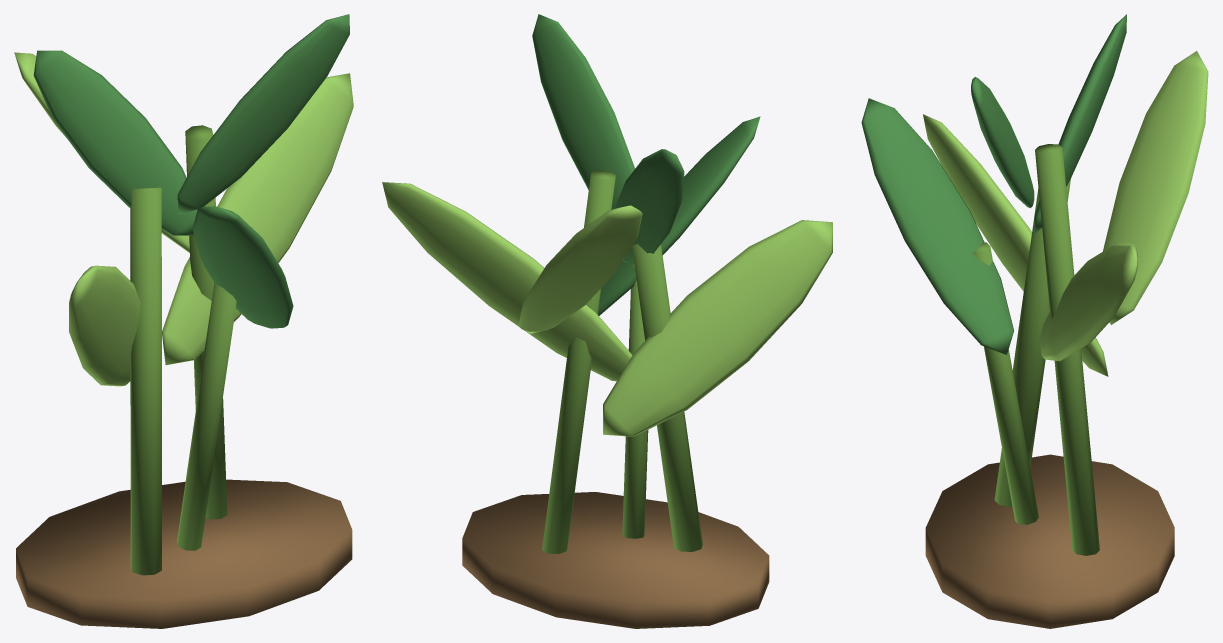
File: xy_nat_crop_sprout.glb
3 views of the same model, side by side, from view 1: azimuth 30°, elevation 25°; view 2: azimuth 150°, elevation 25°; view 3: azimuth 270°, elevation 25° (orthographic). The views are drawn at different scales.
Parts seen in each view (by area): view 1: SoilAnchorDisk, LeafLightB, LeafDarkC, StemA, LeafDarkB, LeafDarkA, LeafLightA, StemC, StemB, LeafLightC; view 2: SoilAnchorDisk, LeafLightA, LeafLightB, LeafDarkB, LeafLightC, StemB, StemA, LeafDarkA, LeafDarkC, StemC; view 3: SoilAnchorDisk, LeafDarkA, LeafLightC, StemB, LeafLightA, LeafLightB, StemA, StemC, LeafDarkC, LeafDarkB.
Part boxes in pixels (x1,y1,x2,y2): SoilAnchorDisk: [16, 479, 352, 628]; LeafLightB: [162, 73, 353, 365]; LeafDarkC: [33, 50, 197, 235]; StemA: [130, 187, 161, 575]; LeafDarkB: [177, 14, 349, 214]; LeafDarkA: [192, 206, 293, 328]; LeafLightA: [69, 265, 140, 386]; StemC: [177, 283, 236, 550]; StemB: [185, 125, 227, 519]; LeafLightC: [14, 52, 189, 252]; SoilAnchorDisk: [462, 492, 769, 628]; LeafLightA: [603, 220, 832, 436]; LeafLightB: [382, 182, 632, 381]; LeafDarkB: [532, 14, 635, 209]; LeafLightC: [518, 205, 642, 333]; StemB: [542, 170, 615, 553]; StemA: [632, 244, 702, 551]; LeafDarkA: [598, 116, 760, 315]; LeafDarkC: [615, 149, 684, 264]; StemC: [622, 264, 648, 538]; SoilAnchorDisk: [925, 454, 1174, 628]; LeafDarkA: [861, 98, 1013, 354]; LeafLightC: [1103, 51, 1208, 324]; StemB: [1035, 144, 1099, 555]; LeafLightA: [923, 114, 1108, 376]; LeafLightB: [1040, 242, 1138, 361]; StemA: [994, 178, 1070, 506]; StemC: [972, 242, 1038, 524]; LeafDarkC: [1034, 14, 1126, 234]; LeafDarkB: [971, 77, 1034, 208].
Bounding box in the file's own units: 0.4937 × 0.6754 × 0.4012.
